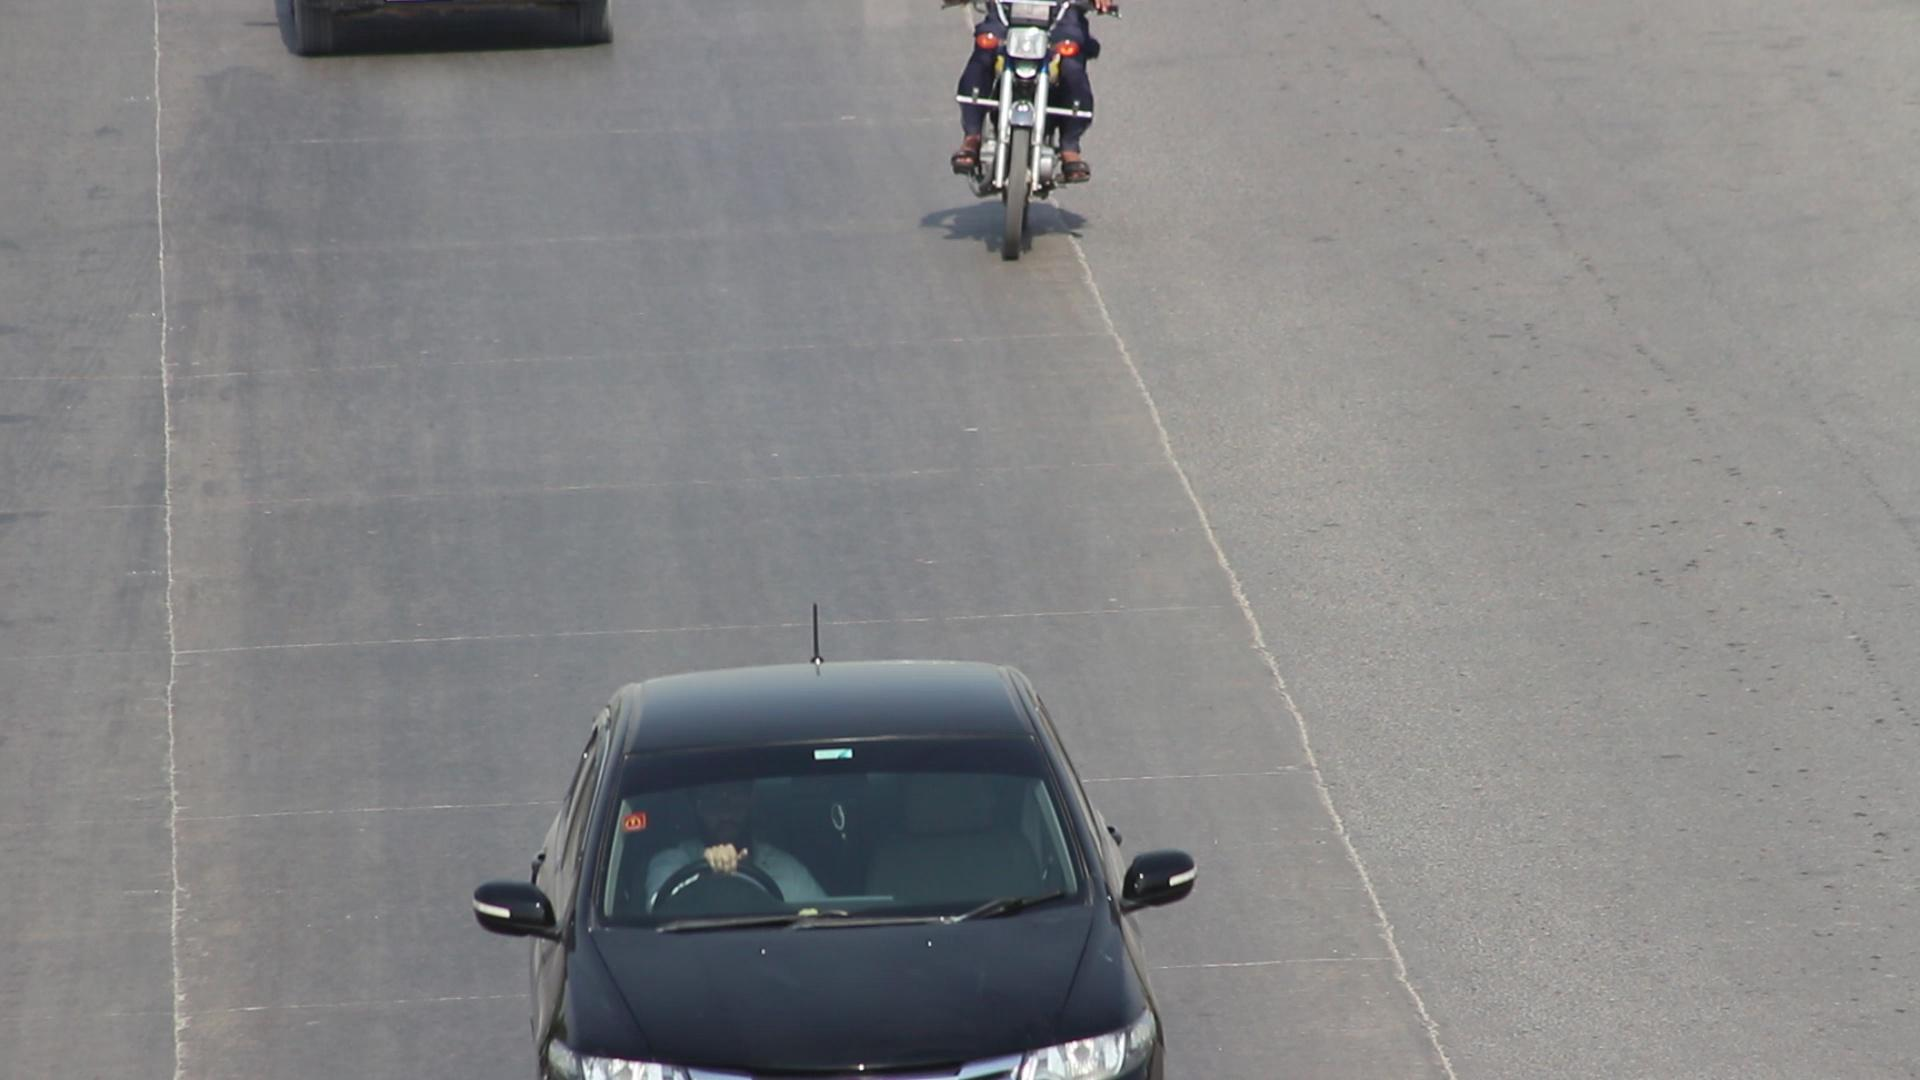windshield: (574, 720, 1104, 936)
